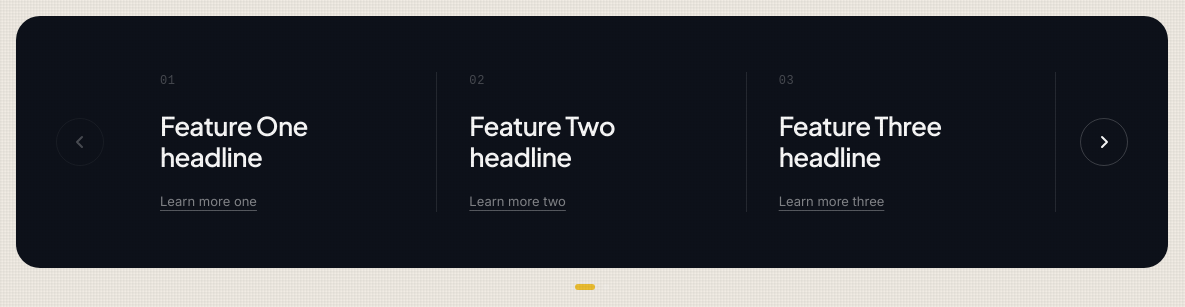
Scenario: FeaturesCarousel › clicking next enables the prev button
This screenshot has width=1185, height=307.
What coordinates should you click on to do the following:
click the button named "Next"
I would click on:
 (1104, 142)
Its box is x1=1080 y1=118 x2=1128 y2=166.
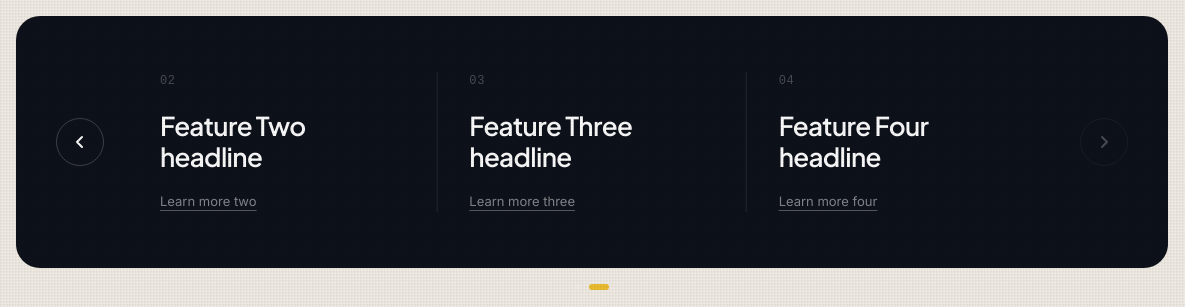
Expected: the button named "Previous" is enabled, x1=56 y1=118 x2=104 y2=166
